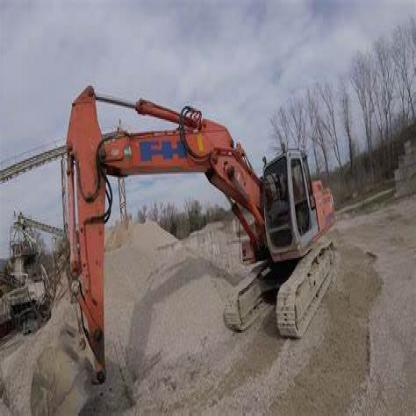excavator: (21, 74, 337, 414)
